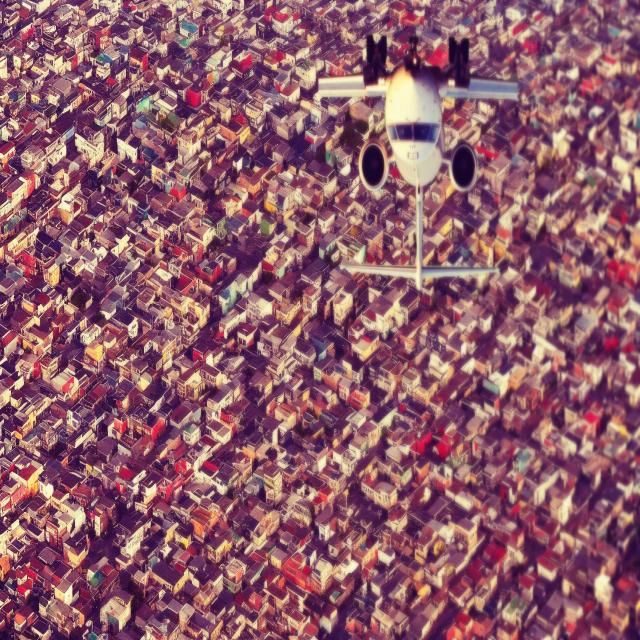airplane: (317, 33, 519, 292)
